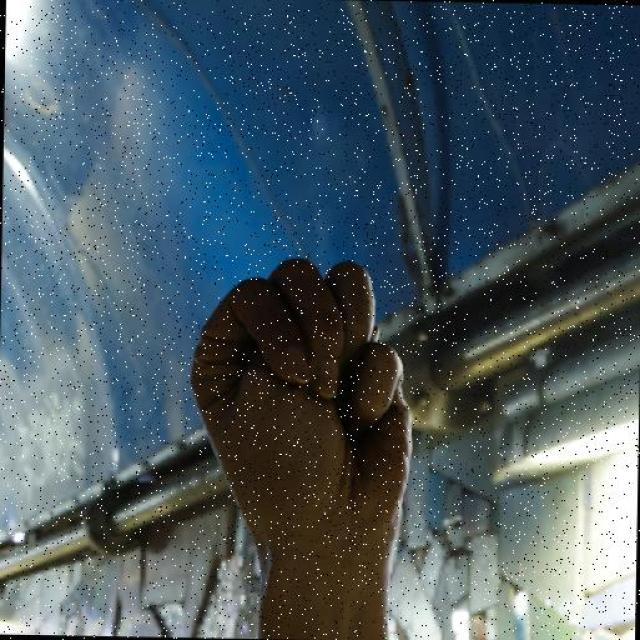M: (183, 250, 420, 556)
